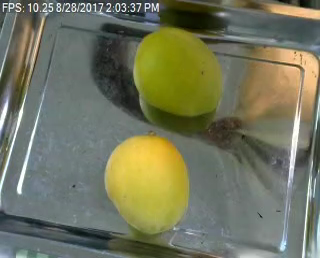Mango: (102, 129, 196, 233), (135, 30, 227, 119)
